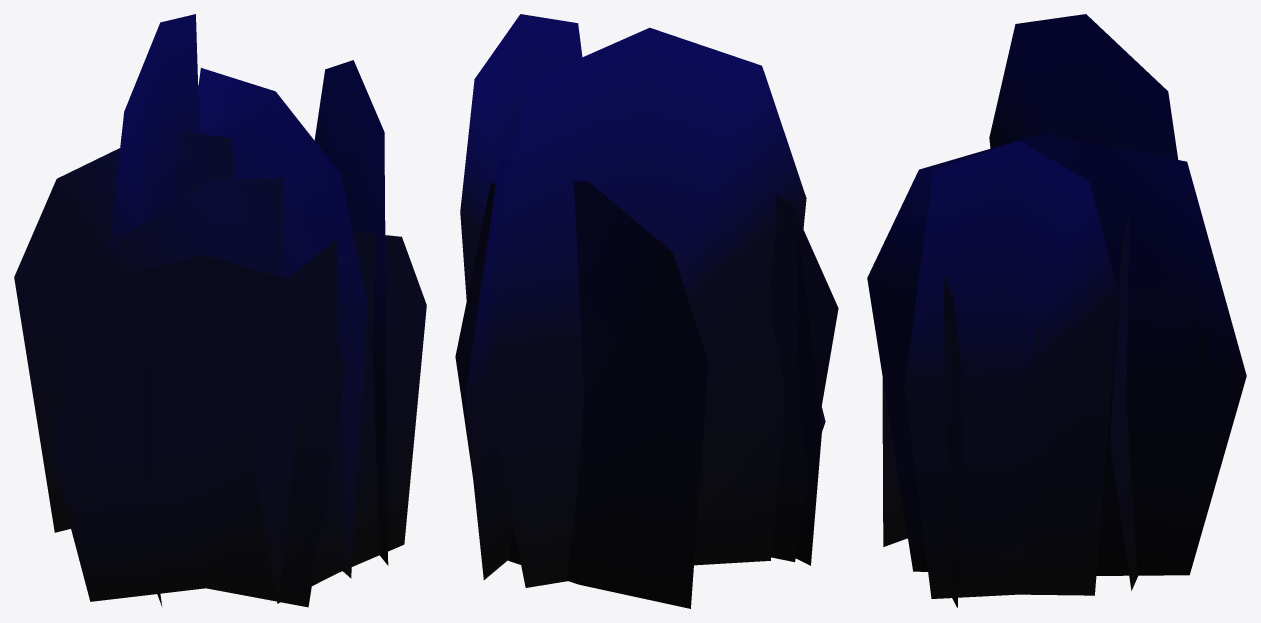
Rendered from SM_Grass_M_Patch_S_02.fbx.
The picture shows the model from 3 angles, left to right: view 1: azimuth 30°, elevation 25°; view 2: azimuth 150°, elevation 25°; view 3: azimuth 270°, elevation 25°; orthographic projection. The views are drawn at different scales.
Visible parts, largest first — view 1: SM_Grass_M_Patch_S_02; view 2: SM_Grass_M_Patch_S_02; view 3: SM_Grass_M_Patch_S_02.
Boxes of the visible parts, bbox=[...] form: SM_Grass_M_Patch_S_02: bbox=[14, 14, 426, 607]; SM_Grass_M_Patch_S_02: bbox=[455, 14, 838, 608]; SM_Grass_M_Patch_S_02: bbox=[867, 14, 1246, 607].
Size of the model in its own units: 88.06 by 85.26 by 127.
